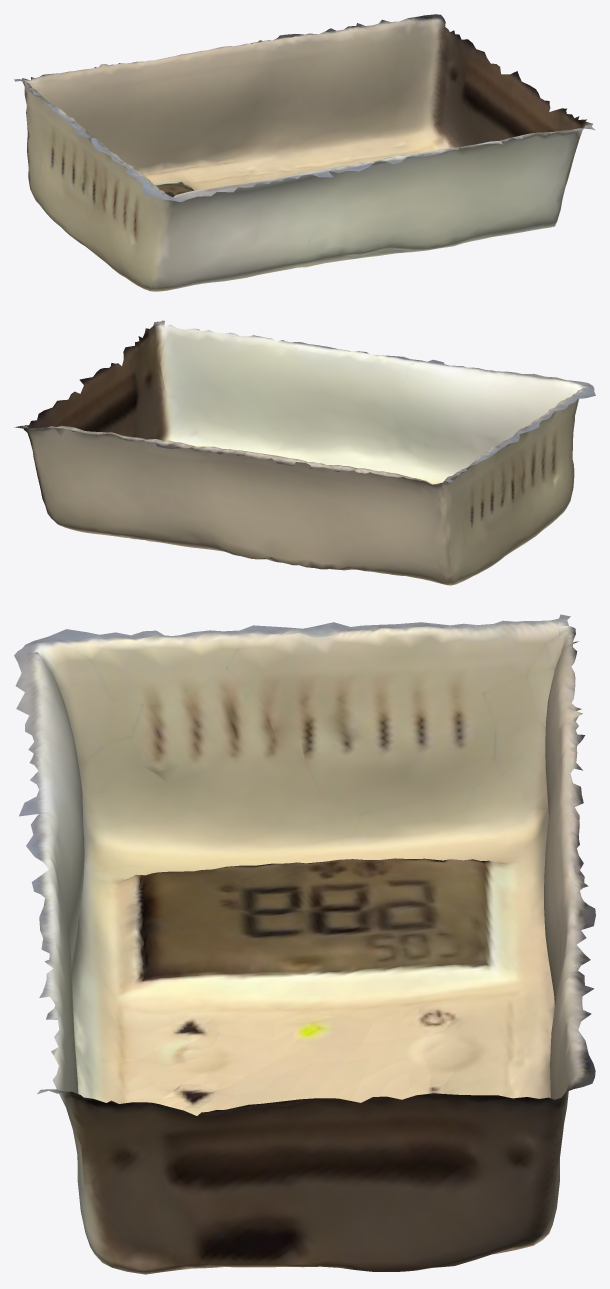
The model's file is thermo.obj.
The picture shows the model from 3 angles, top to bottom: view 1: azimuth 30°, elevation 25°; view 2: azimuth 150°, elevation 25°; view 3: azimuth 270°, elevation 25°; orthographic projection. The views are drawn at different scales.
Parts seen in each view (by area): view 1: poly; view 2: poly; view 3: poly.
Part boxes in pixels (left/top/right/bottom): poly: left=14, top=14, right=595, bottom=291; poly: left=14, top=320, right=595, bottom=585; poly: left=14, top=614, right=595, bottom=1274.
Bounding box in the file's own units: 0.3815 × 0.1298 × 0.235.
